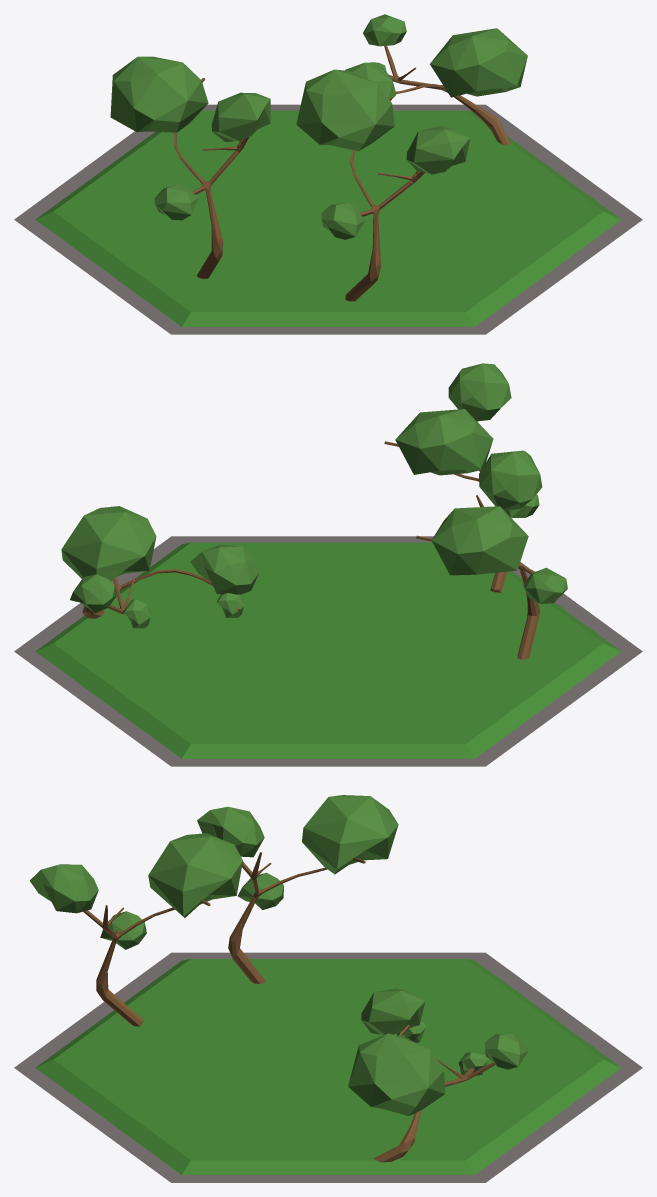
The model's file is foresttile.fbx.
3 views of the same model, one above another, from view 1: azimuth 30°, elevation 25°; view 2: azimuth 150°, elevation 25°; view 3: azimuth 270°, elevation 25° (orthographic).
Visible parts, largest first — view 1: hextile, Tree Leaf 5, Tree Leaf 5.002, Tree Leaf 5.001, Tree Leaf 2, Tree Leaf 2.002, Tree, Tree.002, Tree.001, Tree Leaf, Tree Leaf.002, Tree Leaf.001 (+1 smaller); view 2: hextile, Tree Leaf 5.001, Tree Leaf 5.002, Tree Leaf 5, Tree Leaf 2.002, Tree Leaf 2, Tree Leaf 2.001, Tree Leaf.001, Tree Leaf.002, Tree.002, Tree.001, Tree Leaf 4.001; view 3: hextile, Tree Leaf 5.001, Tree Leaf 5, Tree Leaf 5.002, Tree Leaf 2, Tree Leaf 2.001, Tree Leaf 2.002, Tree, Tree.002, Tree Leaf.001, Tree.001, Tree Leaf.002 (+1 smaller).
Boxes of the visible parts, box(x1,y1,x2,y2) form: hextile: box(14, 104, 642, 334); Tree Leaf 5: box(296, 69, 394, 151); Tree Leaf 5.002: box(110, 56, 208, 132); Tree Leaf 5.001: box(430, 28, 527, 97); Tree Leaf 2: box(406, 125, 469, 174); Tree Leaf 2.002: box(211, 92, 270, 141); Tree: box(345, 96, 424, 301); Tree.002: box(174, 78, 249, 278); Tree.001: box(384, 46, 510, 145); Tree Leaf: box(321, 202, 366, 239); Tree Leaf.002: box(154, 184, 199, 220); Tree Leaf.001: box(363, 14, 406, 46); hextile: box(14, 536, 642, 766); Tree Leaf 5.001: box(61, 506, 156, 581); Tree Leaf 5.002: box(431, 506, 528, 575); Tree Leaf 5: box(395, 409, 493, 475); Tree Leaf 2.002: box(479, 450, 542, 510); Tree Leaf 2: box(448, 363, 511, 421); Tree Leaf 2.001: box(190, 544, 259, 594); Tree Leaf.001: box(70, 574, 116, 613); Tree Leaf.002: box(523, 567, 567, 603); Tree.002: box(416, 495, 540, 659); Tree.001: box(82, 569, 239, 618); Tree Leaf 4.001: box(123, 599, 150, 628); hextile: box(14, 952, 642, 1182); Tree Leaf 5.001: box(348, 1033, 445, 1115); Tree Leaf 5: box(148, 833, 242, 917); Tree Leaf 5.002: box(302, 795, 398, 874); Tree Leaf 2: box(29, 864, 98, 913); Tree Leaf 2.001: box(361, 988, 425, 1034); Tree Leaf 2.002: box(197, 806, 264, 857); Tree: box(83, 899, 210, 1026); Tree.002: box(228, 852, 365, 983); Tree Leaf.001: box(485, 1033, 528, 1069); Tree.001: box(373, 1025, 495, 1162); Tree Leaf.002: box(237, 872, 283, 909).
Size of the model in its own units: 173 by 75.87 by 200.
